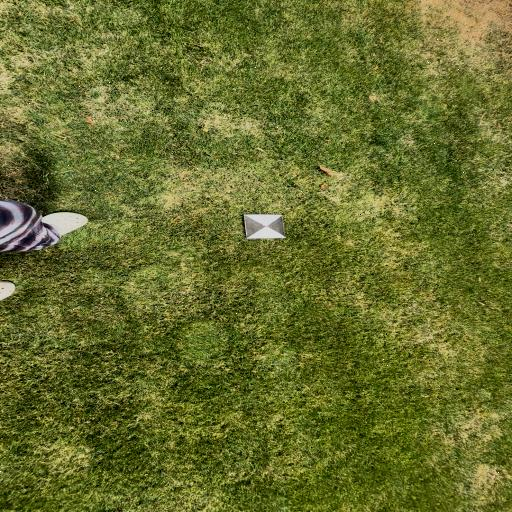target: (245, 214, 285, 238)
